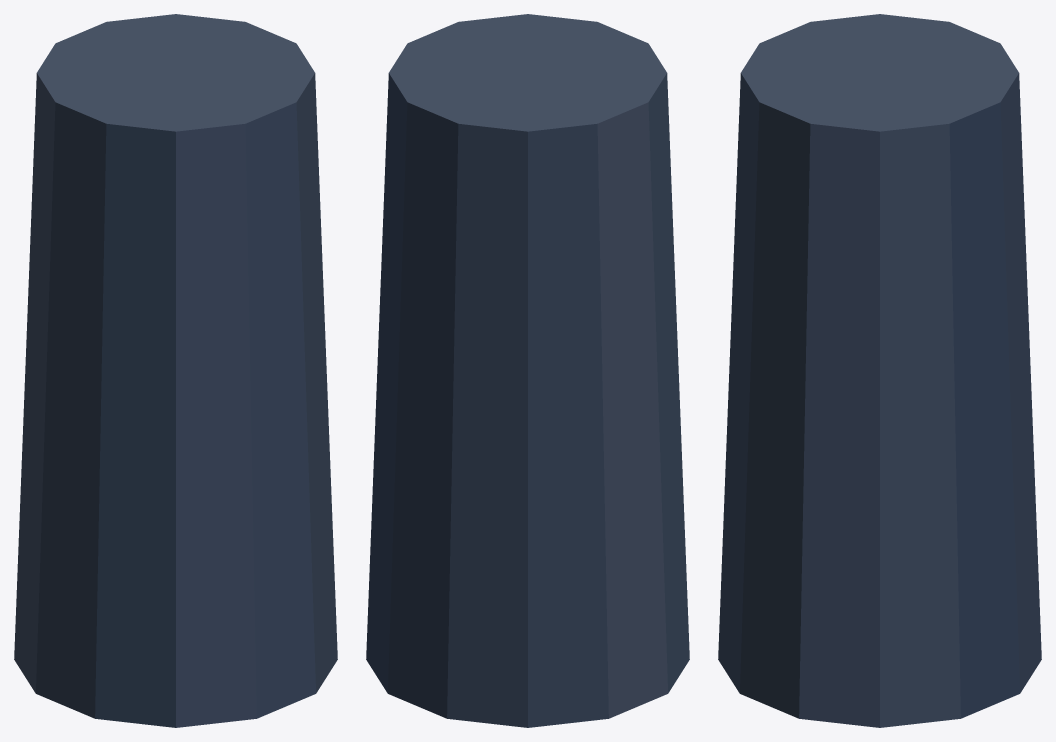
The model's file is ART_Signal_Support.lod.glb.
3 renders of one model, left to right at view 1: azimuth 30°, elevation 25°; view 2: azimuth 150°, elevation 25°; view 3: azimuth 270°, elevation 25°, orthographic.
Parts seen in each view (by area): view 1: ART_Signal_Support; view 2: ART_Signal_Support; view 3: ART_Signal_Support.
Part boxes in pixels (x1,y1,x2,y2): ART_Signal_Support: (14,14,337,727); ART_Signal_Support: (366,14,689,727); ART_Signal_Support: (718,14,1041,727).
Size of the model in its own units: 1 by 2 by 1.
